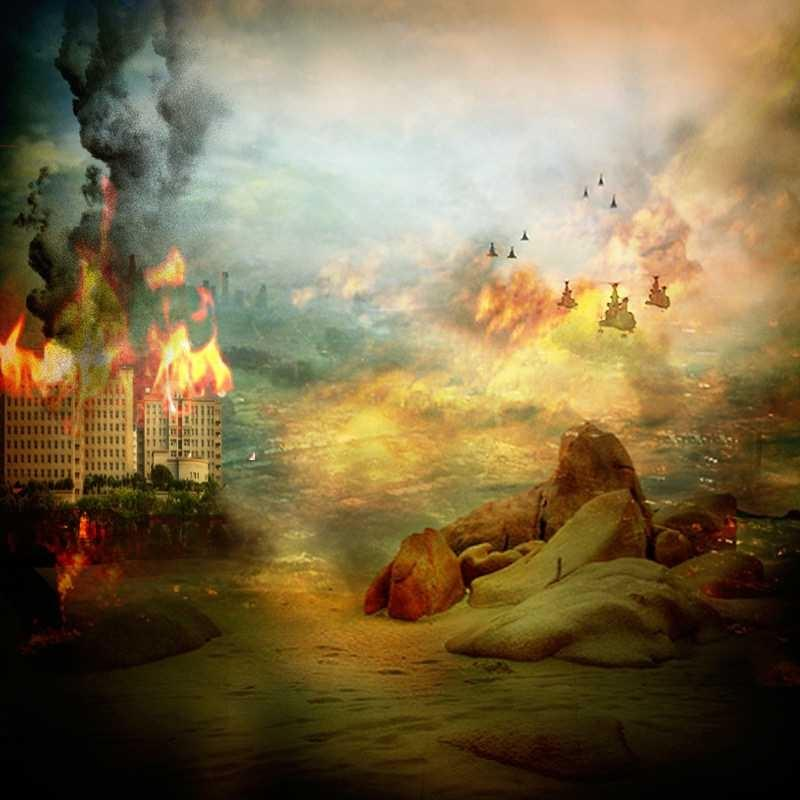fire: (4, 334, 247, 393)
